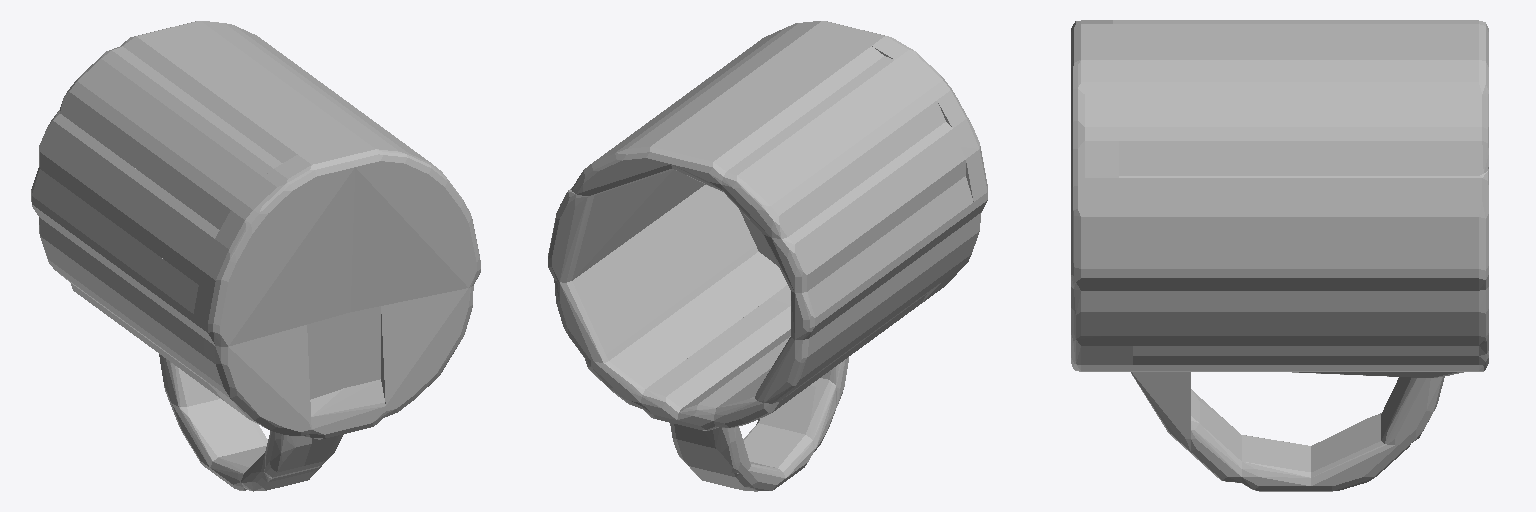
The robot description file, URDF, robot "root":
<?xml version="1.0"?>
<robot name="root">
  <link name="base_link">
    <visual>
      <origin xyz="0 0 0" rpy="0 0 0" />
      <geometry>
        <mesh filename="../meshes/unidex_core_mug-b7e705de46ebdcc14af54ba5738cb1c5_010.obj" scale="1.0000E+00 1.0000E+00 1.0000E+00" />
      </geometry>
      <material name="">
        <color rgba="7.50E-01 7.50E-01 7.50E-01 1" />
      </material>
    </visual>
    <collision>
      <origin xyz="0 0 0" rpy="0 0 0" />
      <geometry>
        <mesh filename="../meshes/unidex_core_mug-b7e705de46ebdcc14af54ba5738cb1c5_010.obj" scale="1.0000E+00 1.0000E+00 1.0000E+00" />
      </geometry>
    </collision>
  </link>
</robot>

--- Facts derived from the render (not from the file) ---
Views: 3 orthographic renders of the robot side by side, from view 1: azimuth 30°, elevation 25°; view 2: azimuth 150°, elevation 25°; view 3: azimuth 270°, elevation 25°.
Robot: root — 1 links, 0 joints (none); root link base_link; default pose: every joint at zero.
Links seen in each view (by area): view 1: base_link; view 2: base_link; view 3: base_link.
Boxes of the visible links, bbox=[...] form: base_link: bbox=[31, 21, 480, 491]; base_link: bbox=[548, 21, 987, 491]; base_link: bbox=[1071, 20, 1488, 491].
Bounding box of the posed robot: 0.1103 × 0.1298 × 0.1492 m (x, y, z).
1 mesh visuals loaded from 1 distinct referenced files (1 OBJ).
